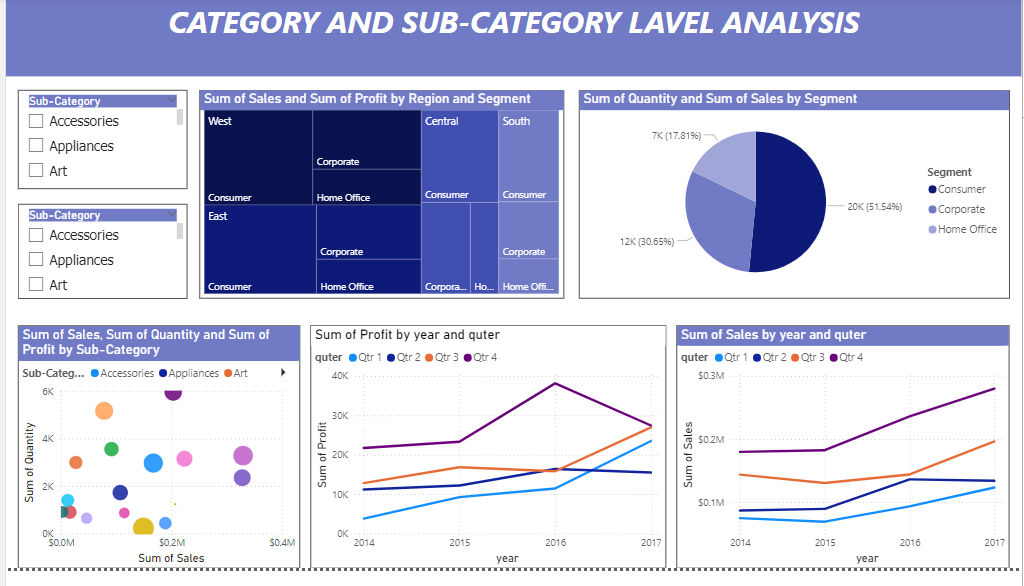

Layout of this report page (visuals, bound fields, positions):
{"tool":"powerbi","page":{"name":"Page 3","canvas":[1280,720],"ordinal":2},"visuals":[{"type":"textbox","box":[0,0,1279.4,100.2],"z":0},{"type":"slicer","fields":{"Values":["Orders.Sub-Category"]},"box":[15.1,117.2,213.5,124.7],"z":1000},{"type":"slicer","fields":{"Values":["Orders.Sub-Category"]},"box":[15.1,260.8,213.5,119.1],"z":2000},{"type":"treemap","fields":{"Group":["Orders.Region"],"Details":["Orders.Segment"],"Values":["Sum(Orders.Sales)"]},"box":[243.8,117.2,459.2,262.7],"z":3000},{"type":"pieChart","fields":{"Category":["Orders.Segment"],"Y":["Sum(Orders.Quantity)"]},"box":[721.9,117.2,542.4,262.7],"z":4000},{"type":"scatterChart","fields":{"Series":["Orders.Sub-Category"],"X":["Sum(Orders.Sales)"],"Y":["Sum(Orders.Quantity)"],"Size":["Sum(Orders.Profit)"]},"box":[15.1,413.9,355.3,306.1],"z":5000},{"type":"lineChart","fields":{"Series":["Orders.quter"],"Category":["Orders.year"],"Y":["Sum(Orders.Profit)"]},"box":[383.6,413.9,447.9,306.1],"z":6000},{"type":"lineChart","fields":{"Series":["Orders.quter"],"Category":["Orders.year"],"Y":["Sum(Orders.Sales)"]},"box":[844.7,413.9,419.5,306.1],"z":7000}]}

Visuals, with their boxes in screenshot pixels (x1, y1, x2, y2), scaled from the page's 1280x720 canvas onto the 1024x586 screenshot:
textbox: x1=0 y1=0 x2=1023 y2=82
slicer - Orders.Sub-Category: x1=12 y1=95 x2=183 y2=197
slicer - Orders.Sub-Category: x1=12 y1=212 x2=183 y2=309
treemap - Orders.Region x Orders.Segment: x1=195 y1=95 x2=562 y2=309
pieChart - Orders.Segment x Sum(Orders.Quantity): x1=578 y1=95 x2=1011 y2=309
scatterChart - Orders.Sub-Category x Sum(Orders.Sales): x1=12 y1=337 x2=296 y2=585
lineChart - Orders.quter x Orders.year: x1=307 y1=337 x2=665 y2=585
lineChart - Orders.quter x Orders.year: x1=676 y1=337 x2=1011 y2=585
